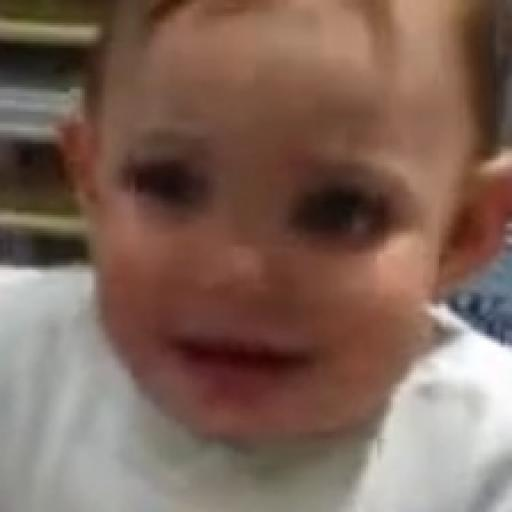Autism: (84, 22, 491, 428)
